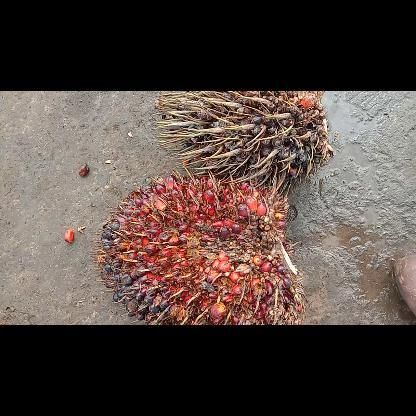TBS abnormal: (154, 90, 335, 184)
TBS masak: (95, 176, 306, 324)
